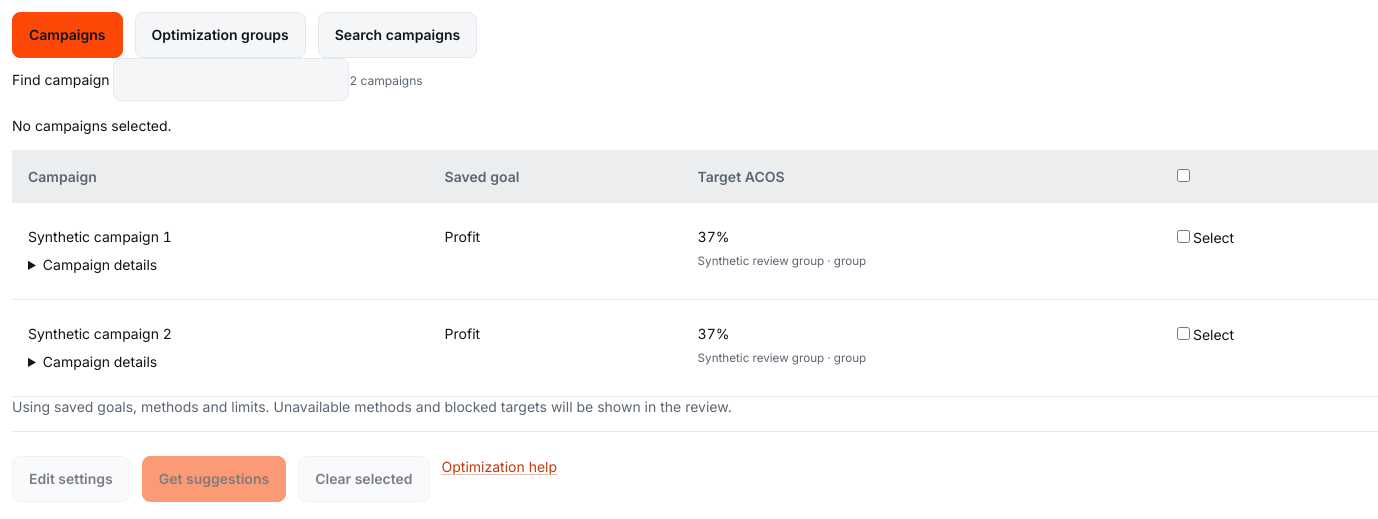
Test: selects the complete filtered population and preserves hidden selection until cleared
The width and height of the screenshot is (1378, 519).
Click the checkbox with test id "optimizer-select-filtered": (1183, 176) [1177,169,1190,182]
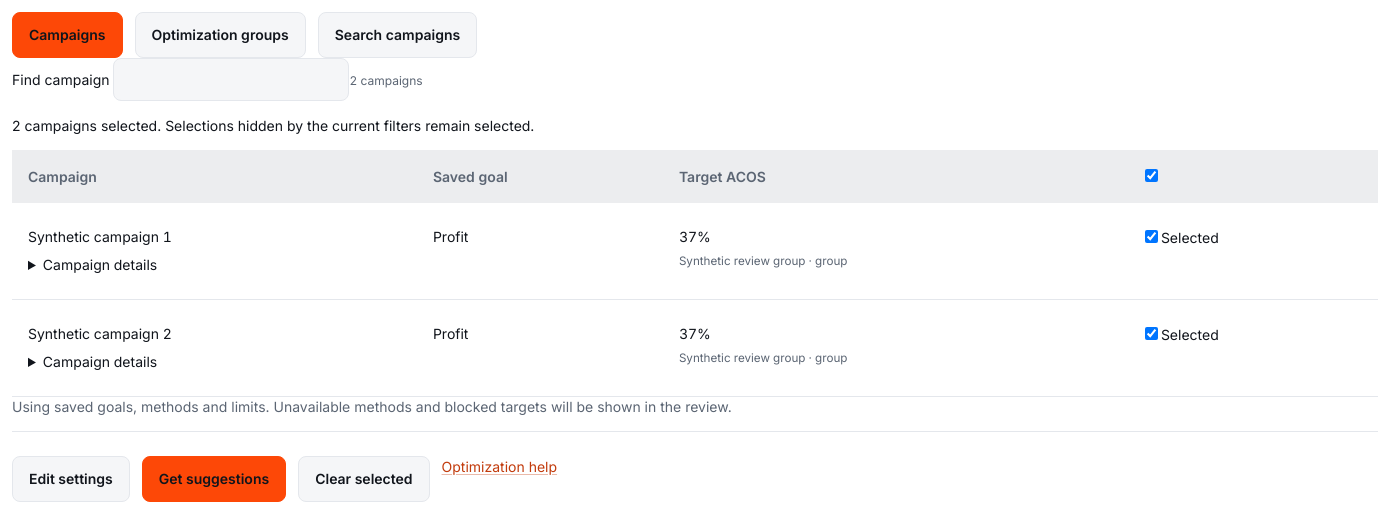
Result: the text with test id "optimizer-selection-count" shows "2 campaigns selected" at [12,117,534,134]
In the search field labelled "Find campaign": (232, 80) [114,58,350,101], type "campaign 2"
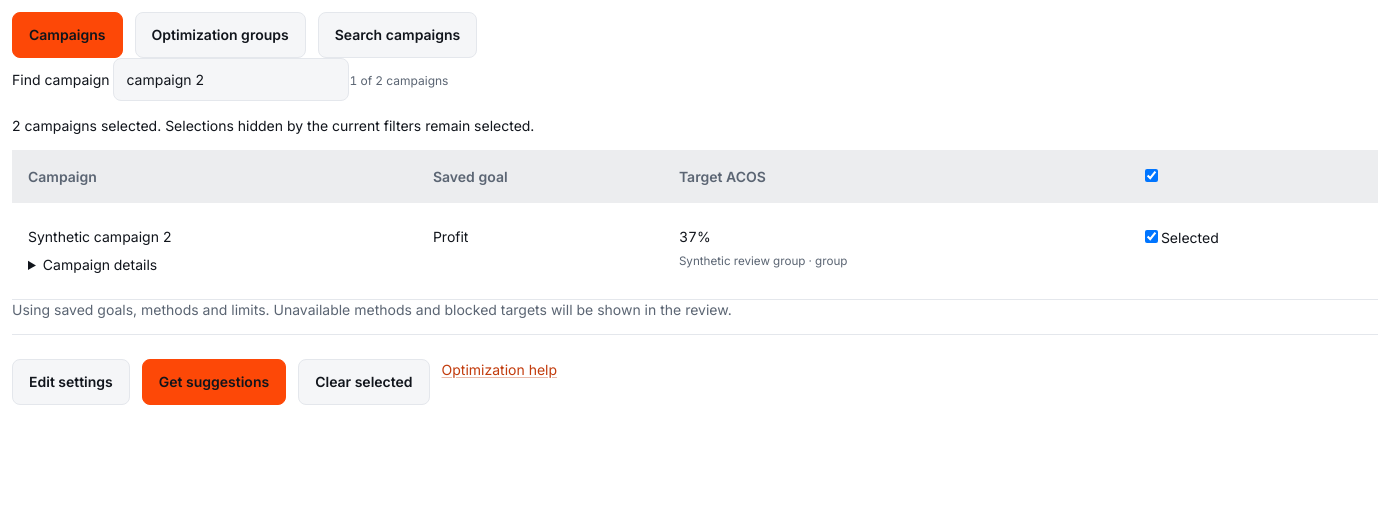
Result: the checkbox named "Select Synthetic campaign 2 for this preview" is checked at [1145,230,1158,243]
Click the button "Clear selected": (364, 382) [298,359,430,405]
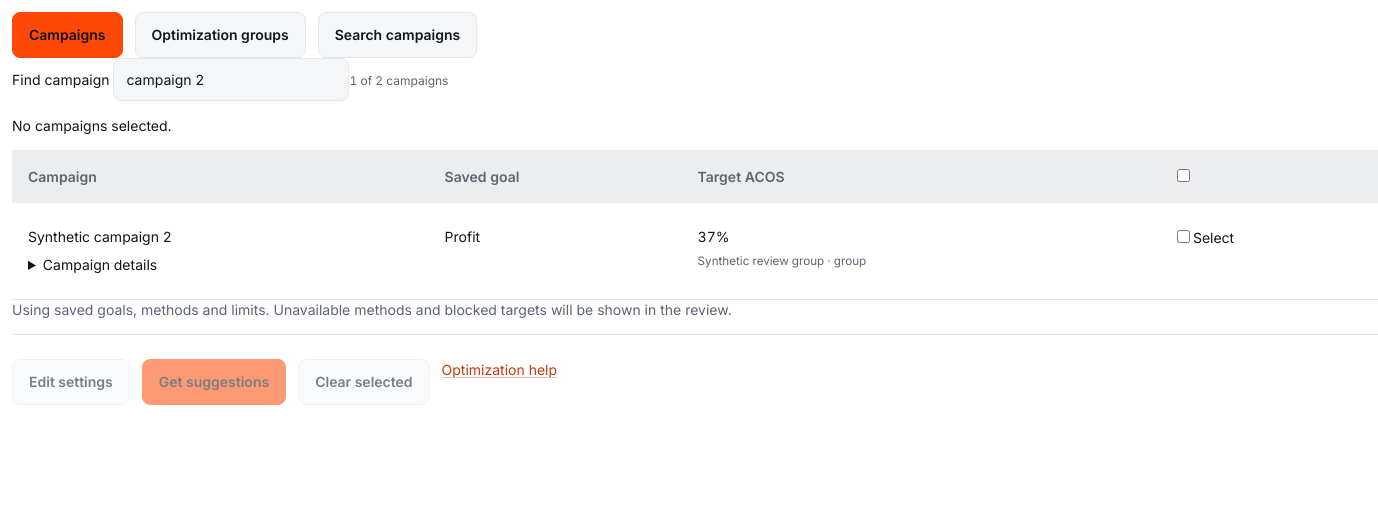
Result: the text with test id "optimizer-selection-count" reads "No campaigns selected." at [12,117,172,134]
